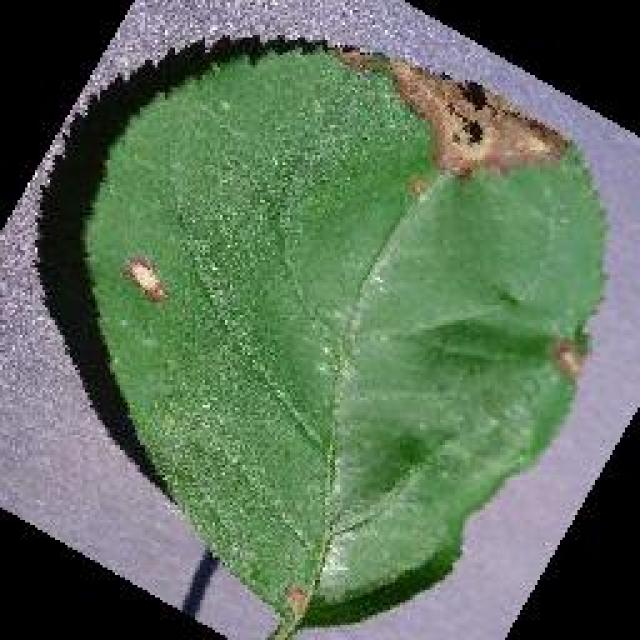Black_rot: (72, 32, 610, 638)
